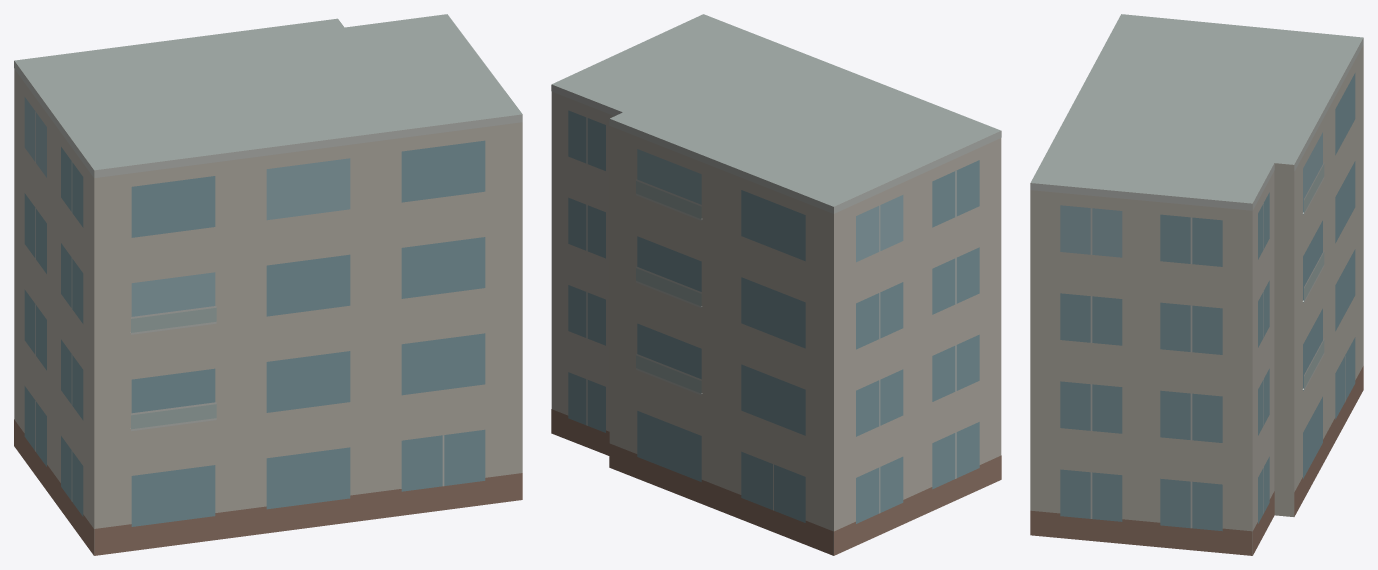
The model's file is survey-upis-32659180.glb.
3 renders of one model, left to right at view 1: azimuth 30°, elevation 25°; view 2: azimuth 150°, elevation 25°; view 3: azimuth 270°, elevation 25°, orthographic. The views are drawn at different scales.
Parts seen in each view (by area): view 1: survey-upis-32659180.tmp; view 2: survey-upis-32659180.tmp; view 3: survey-upis-32659180.tmp.
Boxes of the visible parts, <box> form: survey-upis-32659180.tmp: <box>14,14,522,555</box>; survey-upis-32659180.tmp: <box>551,14,1001,555</box>; survey-upis-32659180.tmp: <box>1030,14,1363,555</box>.
Bounding box in the file's own units: 13.86 × 12 × 10.3.
